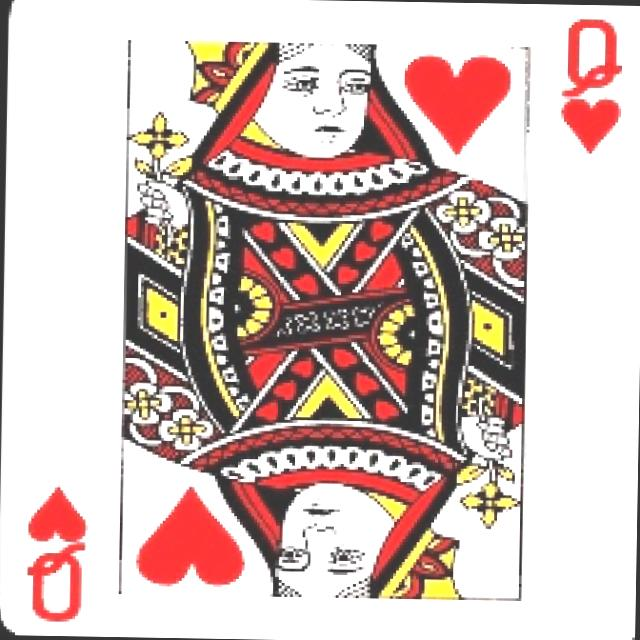Heart: (136, 484, 247, 588), (403, 53, 513, 156), (560, 94, 622, 154), (28, 484, 88, 542)
Queen: (560, 17, 622, 98), (26, 541, 86, 622)
